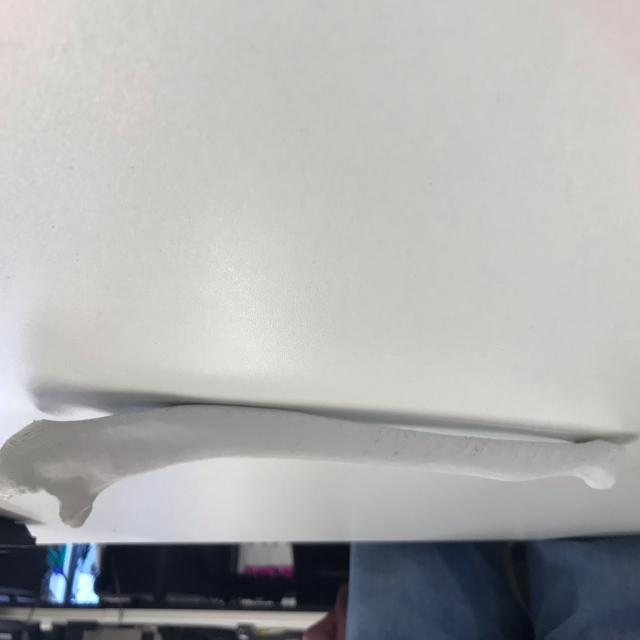bone: (0, 392, 626, 536)
